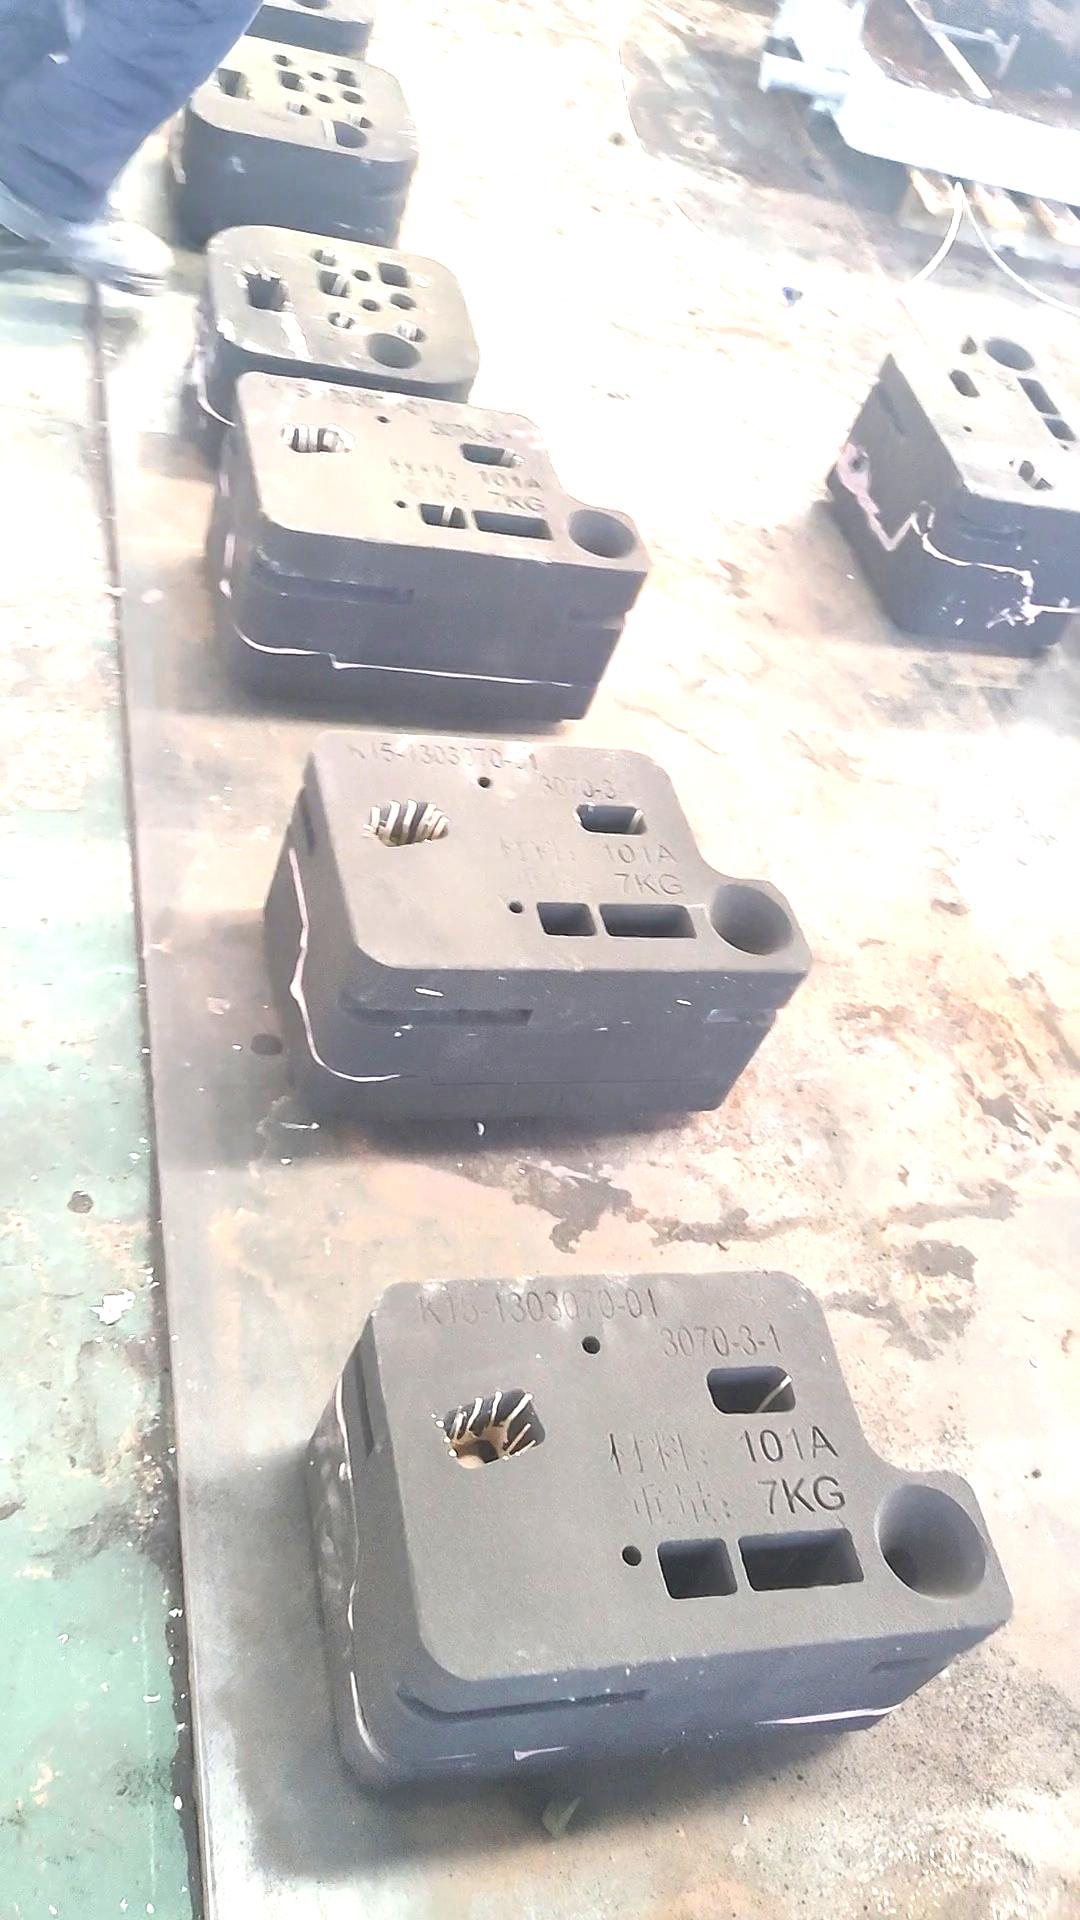pouring hole: (876, 1484, 985, 1600), (709, 884, 793, 953), (564, 508, 637, 560), (364, 332, 422, 369), (986, 336, 1035, 371), (320, 117, 367, 152), (293, 1, 331, 12)
